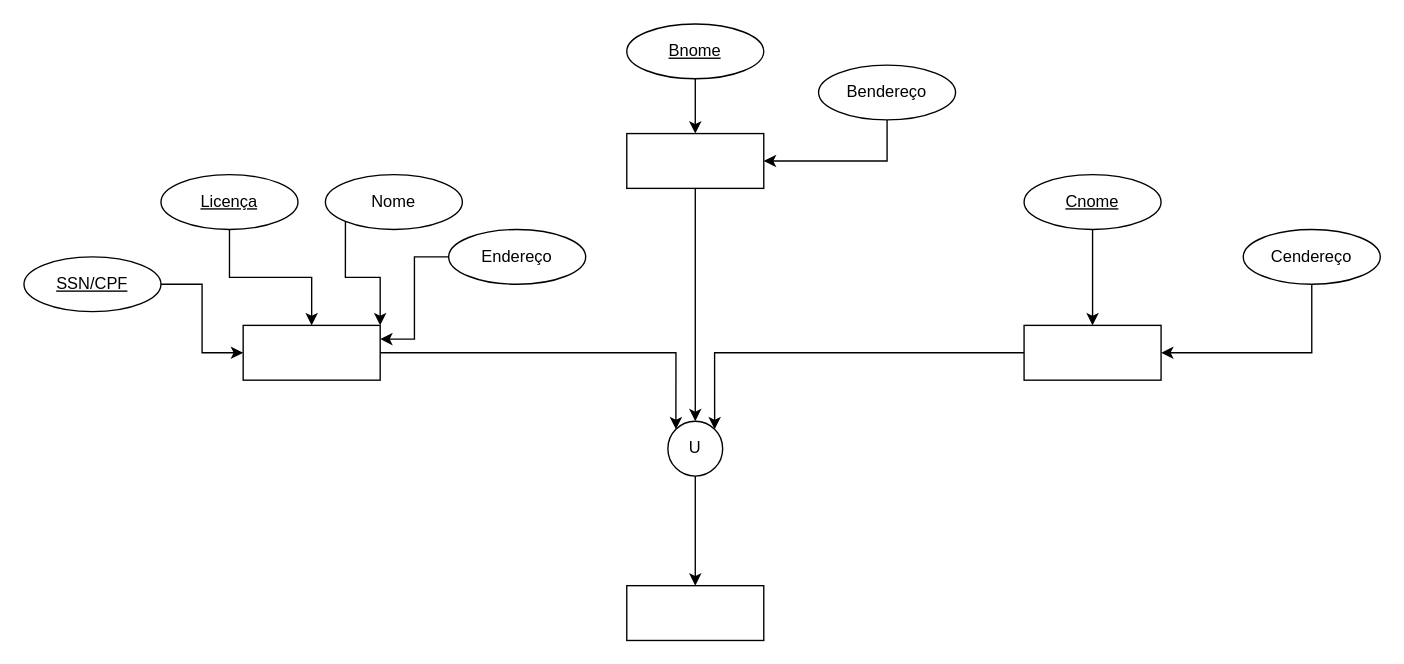
Some shapes in this 1404 by 664 pixel diagram are drawn without their labels. Each missing label, with the centre of its shape:
"Banco" belongs at (694,160).
"Company" belongs at (1092,352).
"Owner" belongs at (694,612).
"Pessoa" belongs at (311,352).
